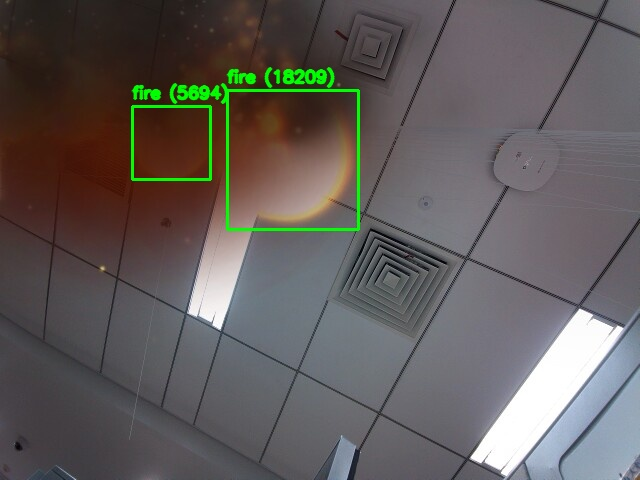fire: (227, 90, 358, 229), (132, 106, 210, 179)
